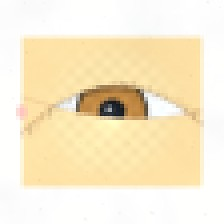pinguecula_lesion: (33, 99, 67, 127)
